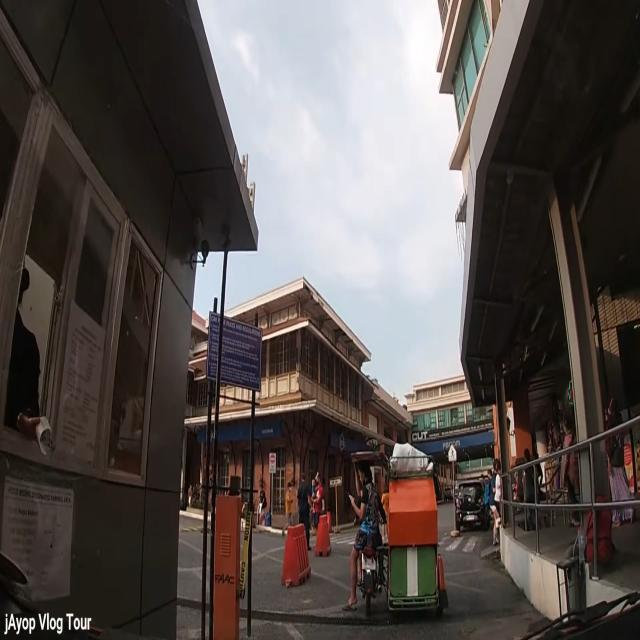car: (456, 479, 490, 534)
tricycle: (349, 449, 448, 614)
